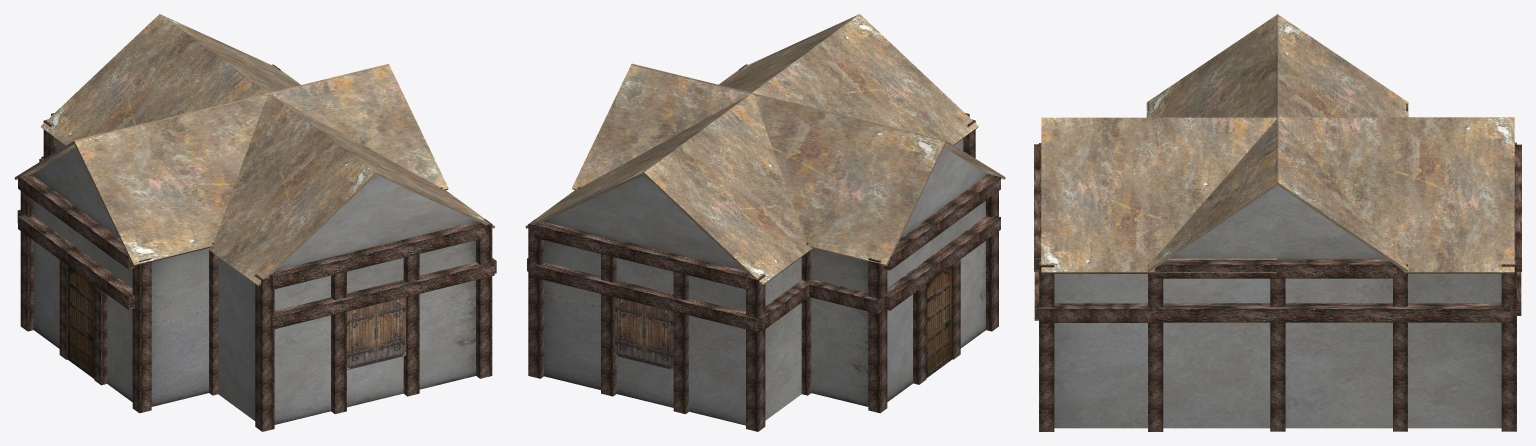
The model's file is House2.FBX.
3 renders of one model, left to right at view 1: azimuth 30°, elevation 25°; view 2: azimuth 150°, elevation 25°; view 3: azimuth 270°, elevation 25°, orthographic. The views are drawn at different scales.
Parts seen in each view (by area): view 1: Base, Roof002, Roof007, Roof004, Prism003, WoodenBeam018, WoodenBeam017, Roof006, WoodenPillar019, WoodenPillar002, WoodenBeam006, Prism1 (+13 smaller); view 2: Base, Roof1, Roof004, Roof007, Prism2, WoodenBeam013, WoodenBeam012, Roof005, WoodenBeam006, WoodenPillar007, WoodenPillar001, WoodenBeam009 (+15 smaller); view 3: Base, Roof006, Roof005, Roof1, Roof002, Prism1, WoodenBeam010, WoodenBeam011, WoodenPillar008, WoodenPillar018, WoodenPillar009, WoodenBeam019 (+4 smaller).
Boxes of the visible parts, left/top/right/bottom form: Base: left=33, top=139, right=475, bottom=424; Roof002: left=74, top=64, right=448, bottom=266; Roof007: left=208, top=94, right=376, bottom=285; Roof004: left=40, top=14, right=266, bottom=145; Prism003: left=275, top=175, right=477, bottom=270; WoodenBeam018: left=269, top=221, right=484, bottom=289; WoodenBeam017: left=270, top=262, right=494, bottom=329; Roof006: left=269, top=93, right=495, bottom=228; WoodenPillar019: left=255, top=274, right=274, bottom=431; WoodenPillar002: left=132, top=258, right=151, bottom=413; WoodenBeam006: left=18, top=215, right=134, bottom=309; Prism1: left=32, top=147, right=119, bottom=238; Base: left=544, top=139, right=985, bottom=425; Roof1: left=572, top=63, right=946, bottom=265; Roof004: left=643, top=94, right=813, bottom=285; Roof007: left=753, top=14, right=978, bottom=145; Prism2: left=543, top=175, right=744, bottom=270; WoodenBeam013: left=534, top=221, right=750, bottom=289; WoodenBeam012: left=534, top=262, right=758, bottom=331; Roof005: left=525, top=94, right=750, bottom=228; WoodenBeam006: left=884, top=215, right=1000, bottom=310; WoodenPillar007: left=746, top=274, right=765, bottom=431; WoodenPillar001: left=868, top=258, right=887, bottom=413; WoodenBeam009: left=884, top=174, right=1000, bottom=270; Base: left=1054, top=273, right=1501, bottom=428; Roof006: left=1041, top=117, right=1276, bottom=273; Roof005: left=1280, top=117, right=1514, bottom=273; Roof1: left=1276, top=14, right=1408, bottom=272; Roof002: left=1146, top=14, right=1279, bottom=272; Prism1: left=1169, top=185, right=1386, bottom=259; WoodenBeam010: left=1154, top=303, right=1510, bottom=322; WoodenBeam011: left=1154, top=259, right=1396, bottom=278; WoodenPillar008: left=1501, top=261, right=1516, bottom=431; WoodenPillar018: left=1039, top=260, right=1054, bottom=431; WoodenPillar009: left=1270, top=278, right=1285, bottom=431; WoodenBeam019: left=1039, top=303, right=1151, bottom=322.
Bounding box in the file's own units: 65.05 × 45.61 × 79.72.
